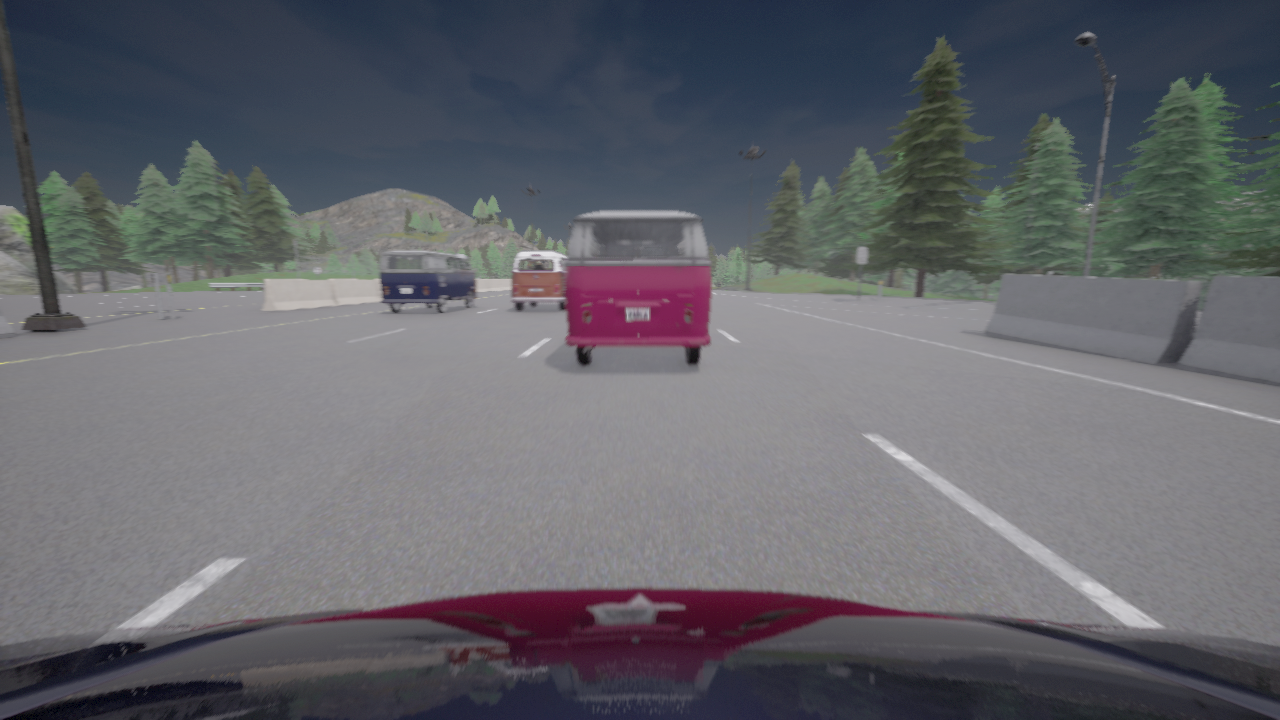cyclist: (0, 588, 1279, 719), (565, 210, 710, 364), (379, 250, 477, 313), (512, 250, 567, 310)
